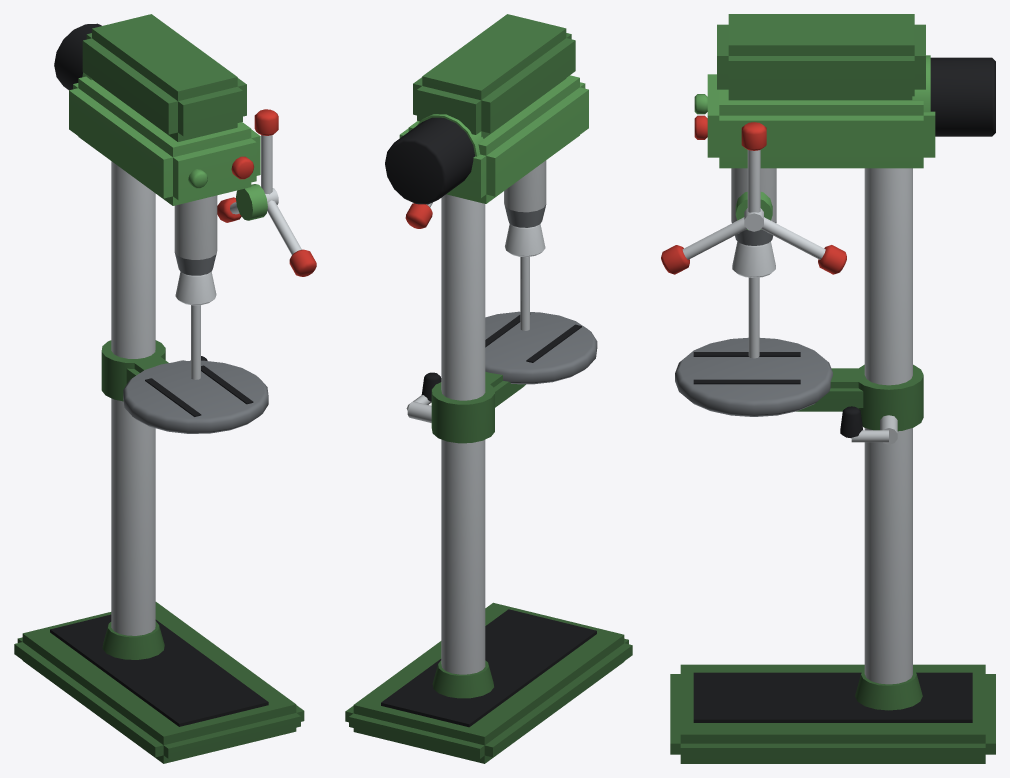
The model's file is SM_DrillPress_Floor_01.glb.
3 views of the same model, side by side, from view 1: azimuth 30°, elevation 25°; view 2: azimuth 150°, elevation 25°; view 3: azimuth 270°, elevation 25° (orthographic). The views are drawn at different scales.
Visible parts, largest first — view 1: SM_DrillPress_Floor_01; view 2: SM_DrillPress_Floor_01; view 3: SM_DrillPress_Floor_01.
Part boxes in pixels (left/top/right/bottom): SM_DrillPress_Floor_01: left=14, top=14, right=316, bottom=763; SM_DrillPress_Floor_01: left=345, top=14, right=632, bottom=763; SM_DrillPress_Floor_01: left=661, top=14, right=995, bottom=763.
Size of the model in its own units: 0.418 by 1.66 by 0.72.
Materials: 1 (1 with a texture image).
